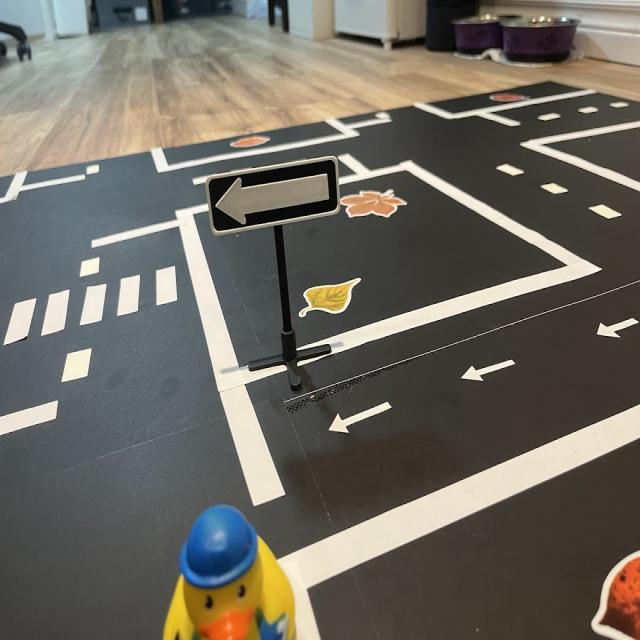duck_specialty: (161, 506, 299, 640)
road_crosswalk: (1, 256, 182, 354)
road_oneway: (325, 386, 404, 443), (453, 345, 522, 396), (586, 298, 640, 354)
sign_oneway_left: (207, 156, 341, 237)
